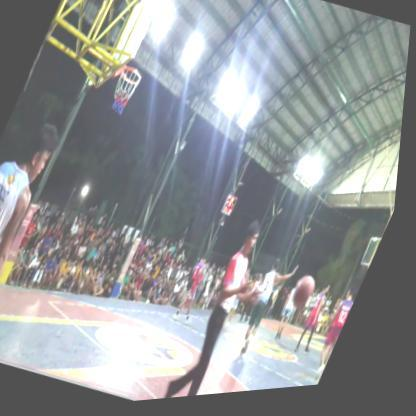basketball: (287, 269, 331, 325)
rim: (100, 47, 155, 128)
